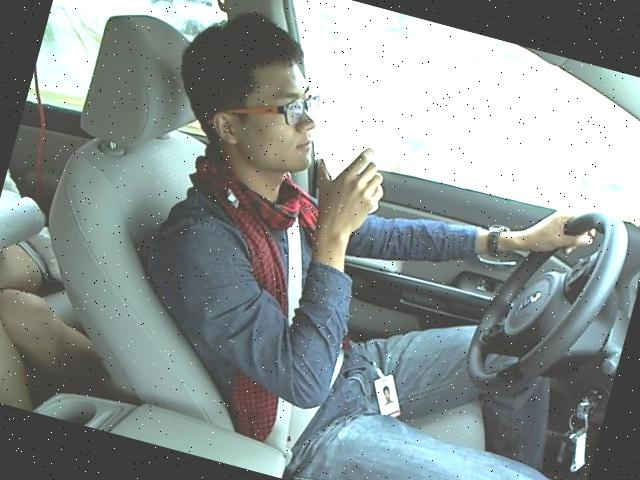c4 - Drinking: (81, 0, 639, 479)
